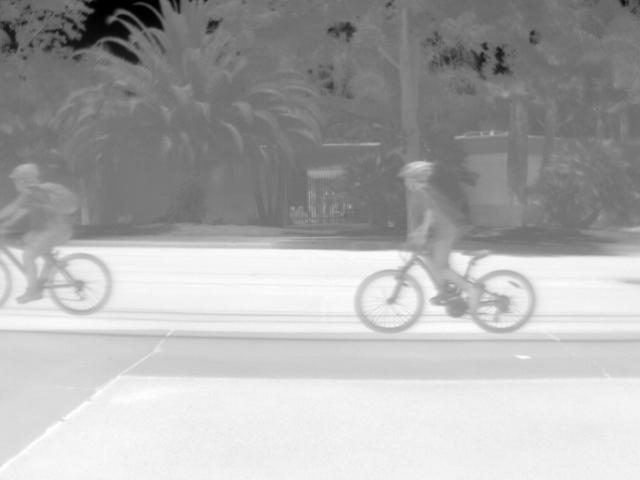person: (401, 160, 482, 313), (2, 162, 78, 304)
